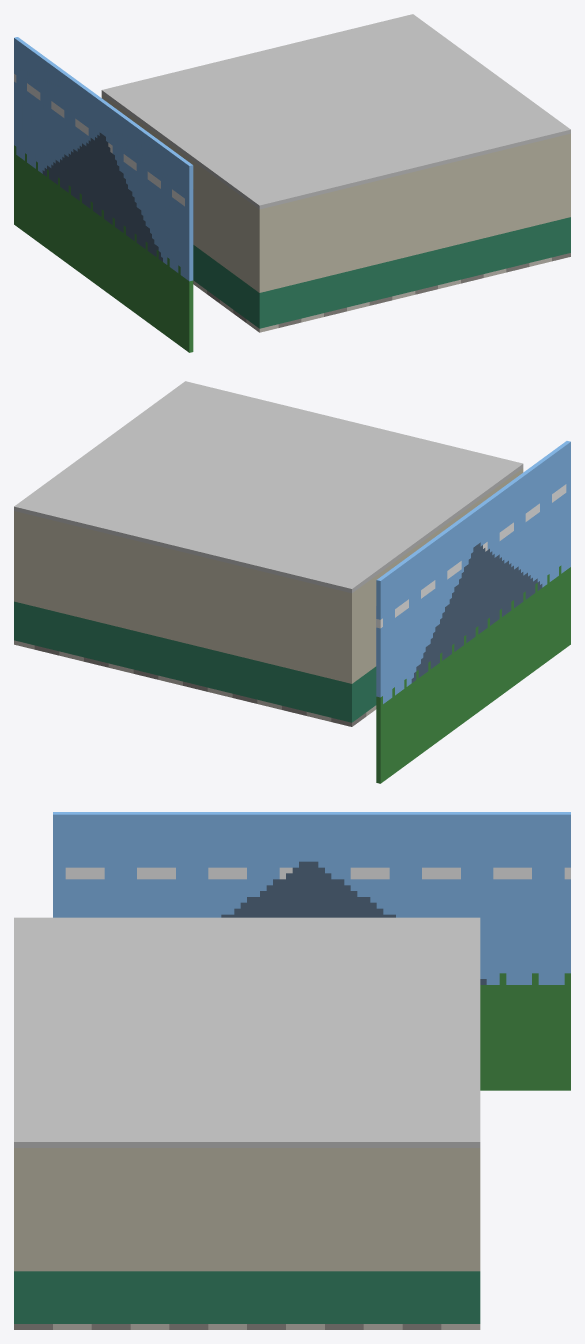
File: aula_uvg.obj
3 renders of one model, top to bottom at view 1: azimuth 30°, elevation 25°; view 2: azimuth 150°, elevation 25°; view 3: azimuth 270°, elevation 25°, orthographic. The views are drawn at different scales.
Parts seen in each view (by area): view 1: techo, pared, cielo_gt, zocalo, cerro_gt, volcan_gt, piso_a, piso_b, nube_gt; view 2: techo, pared, cielo_gt, cerro_gt, zocalo, volcan_gt, piso_b, nube_gt, piso_a; view 3: techo, pared, cielo_gt, zocalo, cerro_gt, volcan_gt, nube_gt, piso_b, piso_a.
Boxes of the visible parts, left/top/right/bottom form: techo: left=101, top=14, right=570, bottom=209; pared: left=101, top=94, right=570, bottom=292; cielo_gt: left=14, top=37, right=193, bottom=281; zocalo: left=193, top=217, right=570, bottom=328; cerro_gt: left=14, top=145, right=193, bottom=352; volcan_gt: left=42, top=132, right=162, bottom=261; piso_a: left=193, top=257, right=551, bottom=332; piso_b: left=193, top=253, right=570, bottom=327; nube_gt: left=14, top=74, right=184, bottom=206; techo: left=14, top=381, right=523, bottom=593; pared: left=14, top=468, right=523, bottom=683; cielo_gt: left=376, top=441, right=570, bottom=703; cerro_gt: left=376, top=565, right=570, bottom=783; zocalo: left=14, top=601, right=376, bottom=722; volcan_gt: left=411, top=542, right=542, bottom=682; piso_b: left=34, top=645, right=366, bottom=726; nube_gt: left=376, top=484, right=566, bottom=628; piso_a: left=14, top=640, right=376, bottom=721; techo: left=14, top=917, right=480, bottom=1147; pared: left=14, top=1148, right=480, bottom=1271; cielo_gt: left=53, top=812, right=570, bottom=984; zocalo: left=14, top=1271, right=480, bottom=1323; cerro_gt: left=480, top=973, right=570, bottom=1090; volcan_gt: left=221, top=861, right=486, bottom=984; nube_gt: left=65, top=867, right=570, bottom=879; piso_b: left=14, top=1324, right=441, bottom=1329; piso_a: left=53, top=1324, right=480, bottom=1329.
Bounding box in the file's own units: 9.7 × 4.7 × 8.6.
